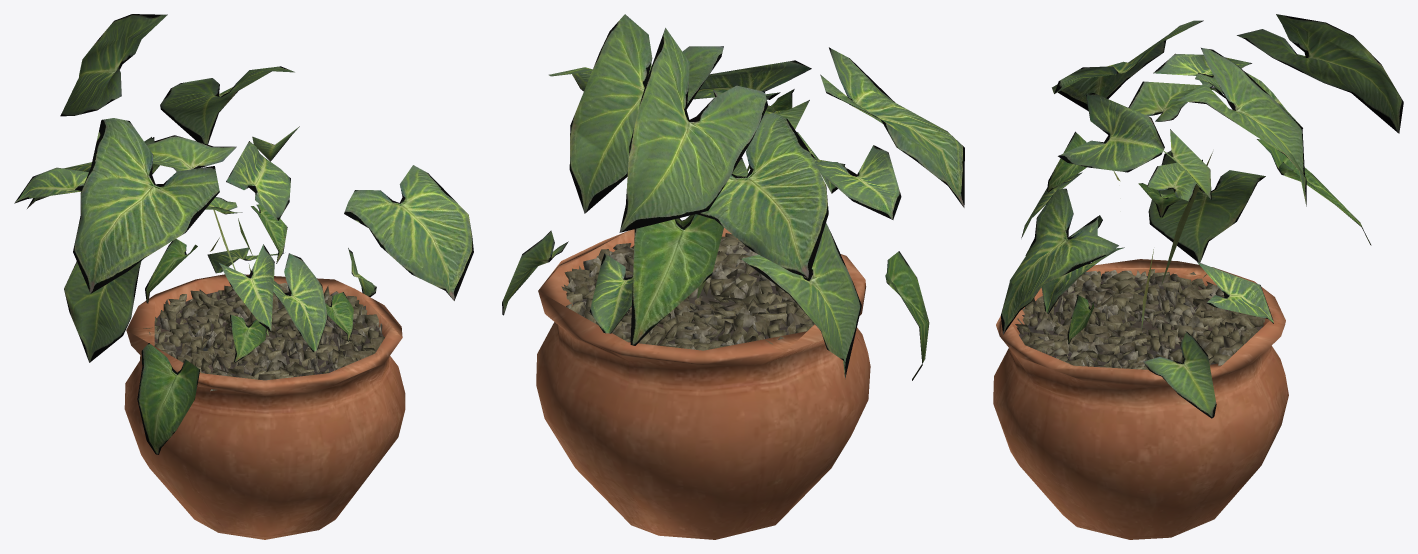
File: plantTall.glb
The picture shows the model from 3 angles, left to right: view 1: azimuth 30°, elevation 25°; view 2: azimuth 150°, elevation 25°; view 3: azimuth 270°, elevation 25°; orthographic projection. The views are drawn at different scales.
Visible parts, largest first — view 1: potted_plant_02_leaves, potted_plant_02_pot; view 2: potted_plant_02_leaves, potted_plant_02_pot; view 3: potted_plant_02_pot, potted_plant_02_leaves.
Part boxes in pixels (x1=…): potted_plant_02_leaves: x1=14, y1=14, x2=473, y2=454; potted_plant_02_pot: x1=124, y1=274, x2=405, y2=539; potted_plant_02_leaves: x1=502, y1=14, x2=964, y2=380; potted_plant_02_pot: x1=536, y1=228, x2=870, y2=539; potted_plant_02_pot: x1=993, y1=259, x2=1288, y2=539; potted_plant_02_leaves: x1=1000, y1=14, x2=1403, y2=418.
Bounding box in the file's own units: 0.7012 × 0.8395 × 0.6553.
2 materials, 2 textured.
